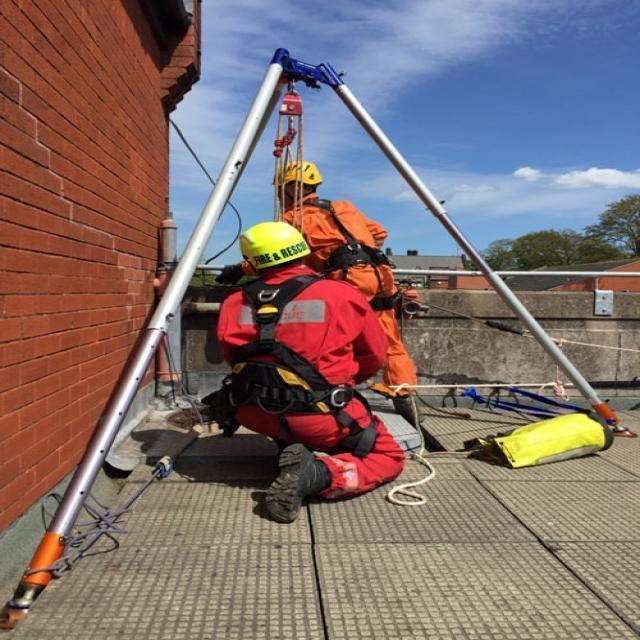Arnes_seguridad: (226, 267, 368, 423), (296, 190, 408, 318)
